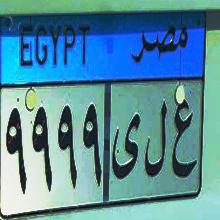9: (6, 105, 26, 199), (58, 103, 77, 191), (32, 105, 51, 190), (84, 104, 102, 186)
ain: (171, 94, 195, 178)
laam: (145, 100, 167, 174)
yaa: (111, 112, 140, 182)
